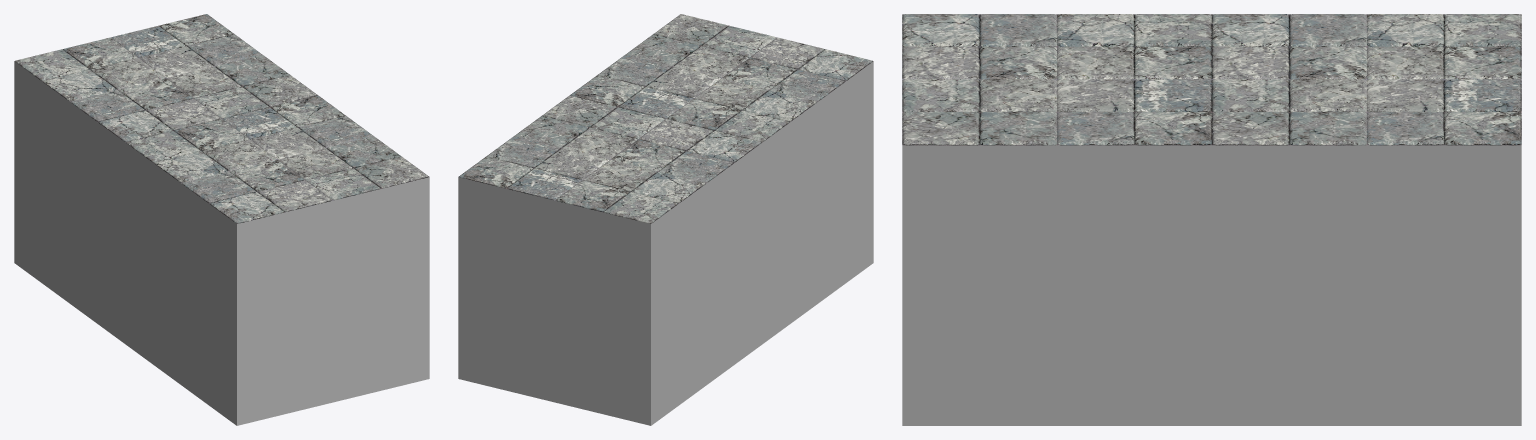
File: Floor_half_4m.gltf
3 renders of one model, left to right at view 1: azimuth 30°, elevation 25°; view 2: azimuth 150°, elevation 25°; view 3: azimuth 270°, elevation 25°, orthographic. The views are drawn at different scales.
Parts seen in each view (by area): view 1: Floor_half_4m; view 2: Floor_half_4m; view 3: Floor_half_4m.
Part boxes in pixels (x1,y1,x2,y2): Floor_half_4m: (14, 14, 429, 425); Floor_half_4m: (458, 14, 873, 425); Floor_half_4m: (902, 14, 1521, 425).
Bounding box in the file's own units: 4 × 4.03 × 8.
